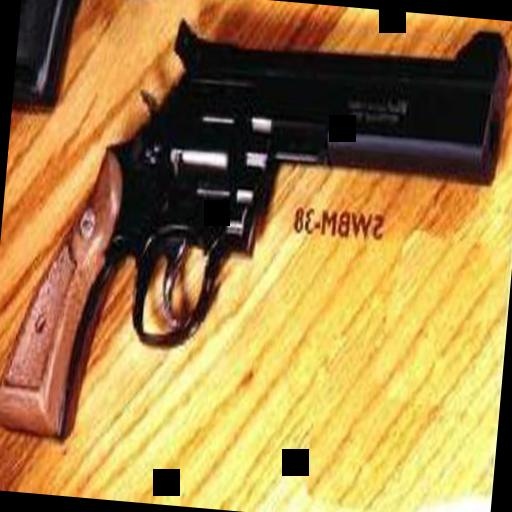Handgun: (0, 0, 511, 480)
